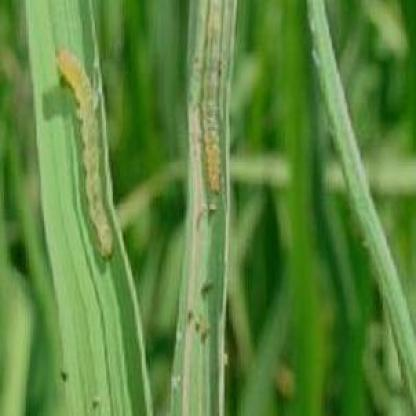leaf-folder: (50, 30, 132, 298), (186, 1, 244, 218)
